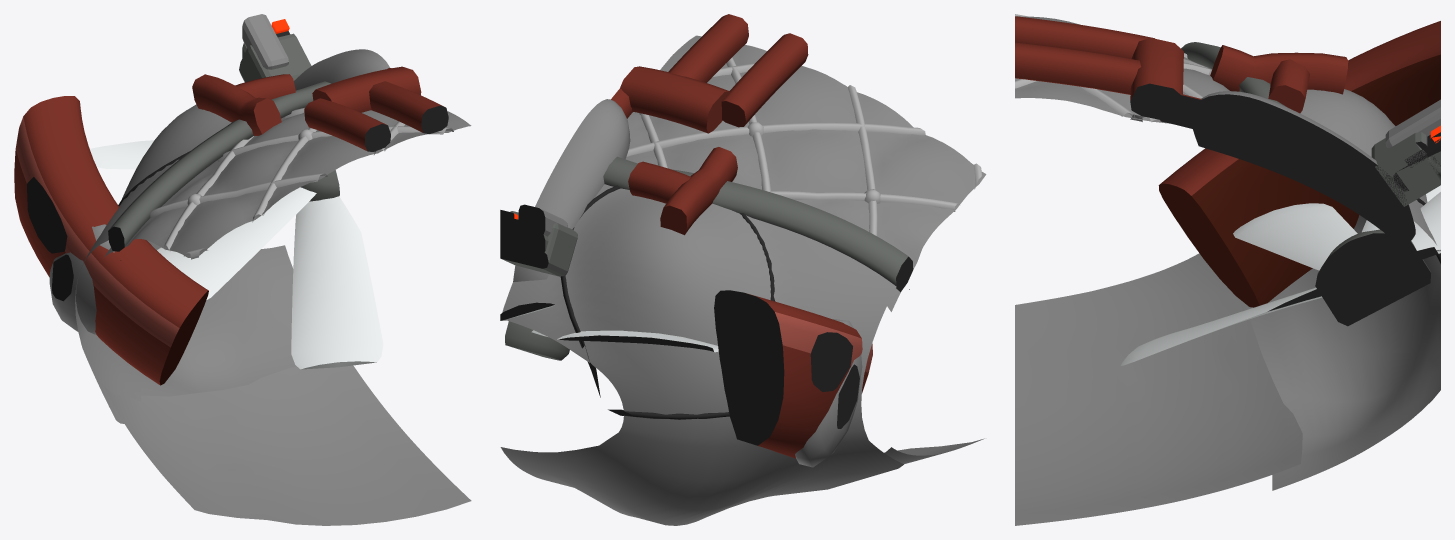
Rendered from zeppelin_93.glb.
The picture shows the model from 3 angles, left to right: view 1: azimuth 30°, elevation 25°; view 2: azimuth 150°, elevation 25°; view 3: azimuth 270°, elevation 25°; orthographic projection. The views are drawn at different scales.
Parts seen in each view (by area): view 1: envelope.001, duct.001, cowl.001, blade_5.001, cowl_rim.001, blade_4.001, net_ropes.001, duct_boot_l.001, bracket_l.001, gate_leg_out_l.001, gate_leg_in_l.001, gate_bar.001 (+6 smaller); view 2: cowl.001, envelope.001, duct.001, cowl_rim.001, hub_fairing.001, net_ropes.001, gate_bar.001, gate_leg_out_l.001, bracket_l.001, gate_leg_in_l.001, duct_boot_l.001, bridge_foot.001 (+6 smaller); view 3: envelope.001, cowl.001, duct.001, hub_fairing.001, fan_hub.001, blade_4.001, gate_leg_in_l.001, gate_bar.001, bracket_l.001, gate_leg_out_l.001, bridge_foot.001, blade_5.001 (+7 smaller).
Part boxes in pixels (<box>): envelope.001: <box>104,110,471,525</box>; duct.001: <box>14,96,208,385</box>; cowl.001: <box>75,104,296,423</box>; blade_5.001: <box>291,196,383,369</box>; cowl_rim.001: <box>108,81,330,251</box>; blade_4.001: <box>157,187,316,299</box>; net_ropes.001: <box>149,107,453,259</box>; duct_boot_l.001: <box>49,224,114,334</box>; bracket_l.001: <box>192,74,281,135</box>; gate_leg_out_l.001: <box>304,98,390,151</box>; gate_leg_in_l.001: <box>369,81,448,134</box>; gate_bar.001: <box>312,66,421,112</box>; cowl.001: <box>500,184,903,525</box>; envelope.001: <box>625,35,986,463</box>; duct.001: <box>714,290,872,458</box>; cowl_rim.001: <box>603,156,913,292</box>; hub_fairing.001: <box>513,99,630,281</box>; net_ropes.001: <box>626,57,982,235</box>; gate_bar.001: <box>620,66,729,133</box>; gate_leg_out_l.001: <box>721,33,808,127</box>; bracket_l.001: <box>660,147,737,235</box>; gate_leg_in_l.001: <box>668,14,748,82</box>; duct_boot_l.001: <box>795,319,862,467</box>; bridge_foot.001: <box>500,211,577,276</box>; envelope.001: <box>1015,16,1302,525</box>; cowl.001: <box>1232,89,1440,490</box>; duct.001: <box>1158,21,1440,307</box>; hub_fairing.001: <box>1191,91,1415,248</box>; fan_hub.001: <box>1315,229,1431,326</box>; blade_4.001: <box>1233,203,1357,270</box>; gate_leg_in_l.001: <box>1015,42,1140,94</box>; gate_bar.001: <box>1130,38,1183,120</box>; bracket_l.001: <box>1210,45,1348,94</box>; gate_leg_out_l.001: <box>1015,16,1154,58</box>; bridge_foot.001: <box>1371,132,1440,207</box>; blade_5.001: <box>1120,286,1328,365</box>.
Bounding box in the file's own units: 24 × 33.56 × 28.
